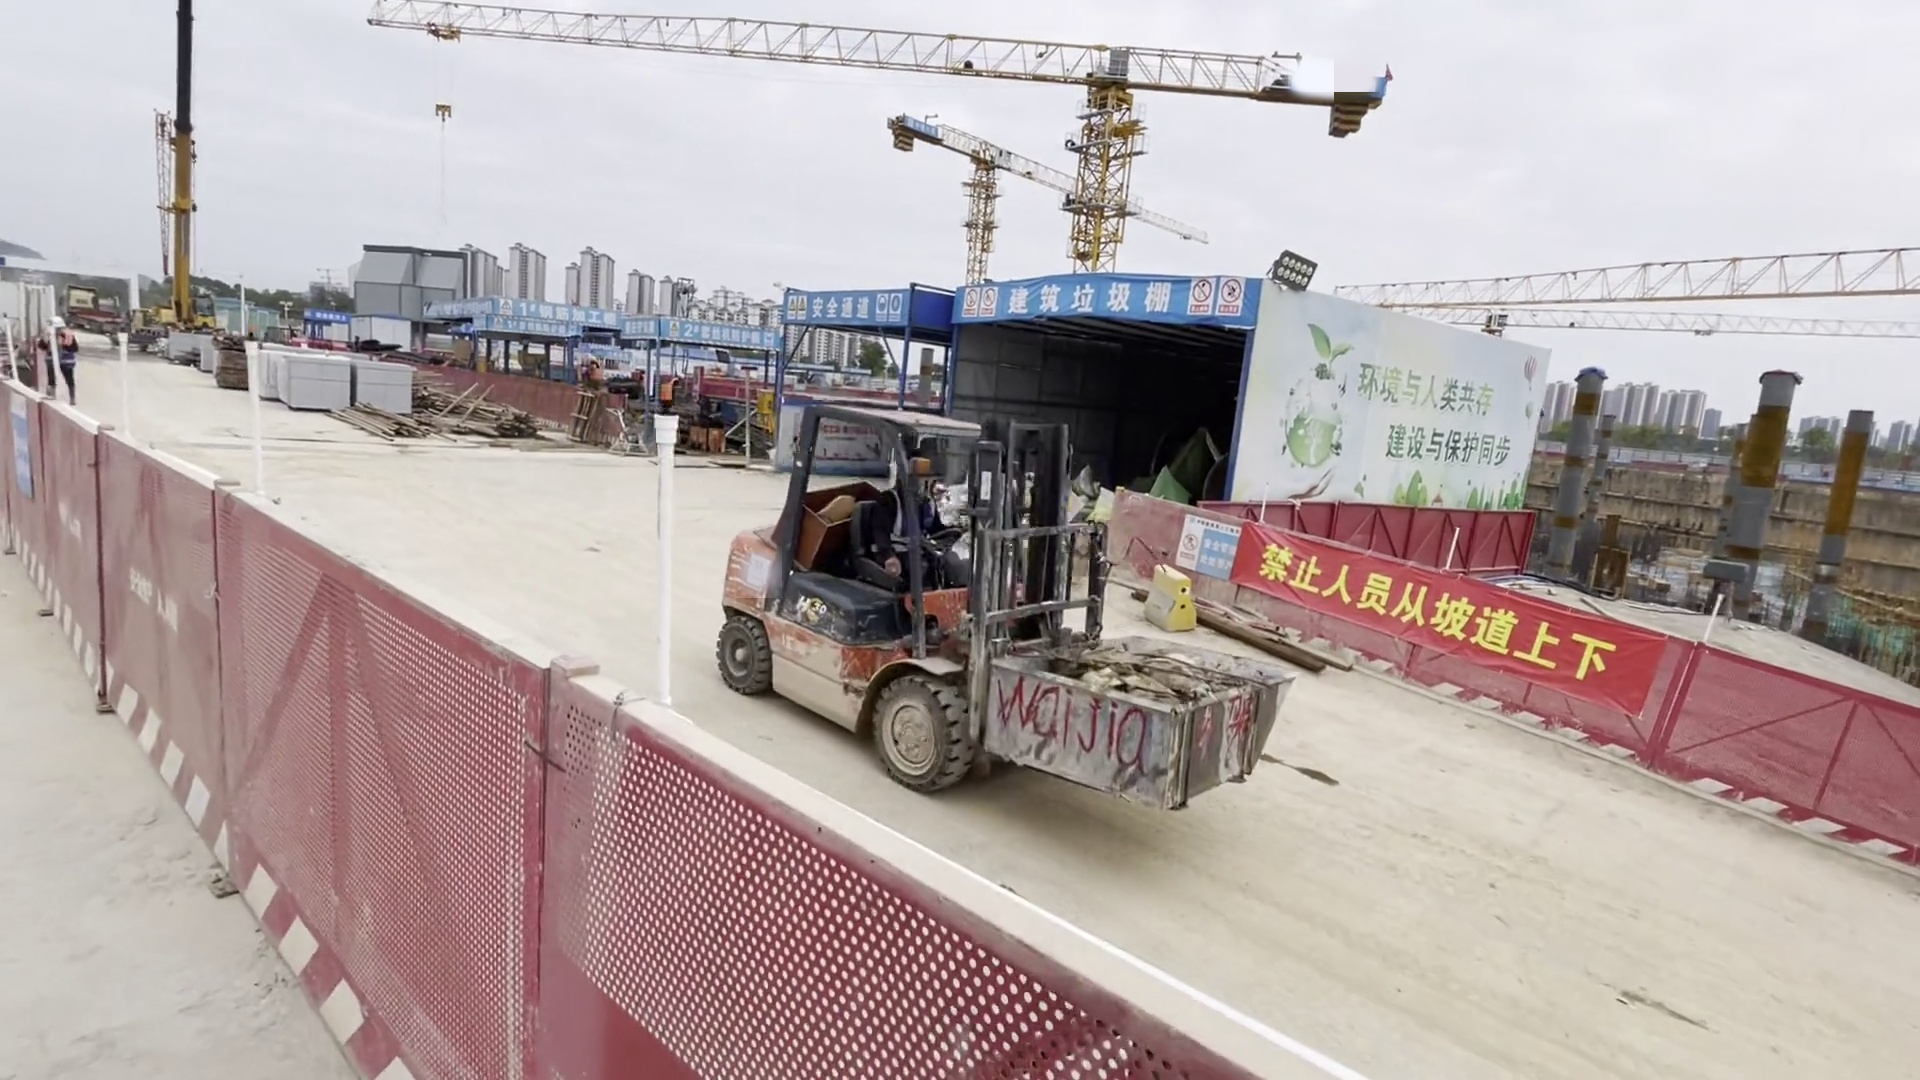brick: (256, 355, 417, 429)
fence: (8, 405, 974, 1080)
person: (867, 452, 965, 578)
scaffold: (432, 103, 447, 118)
slogan: (1221, 520, 1684, 703), (1293, 327, 1519, 507), (432, 296, 775, 362), (958, 290, 1232, 333), (765, 290, 908, 338)
